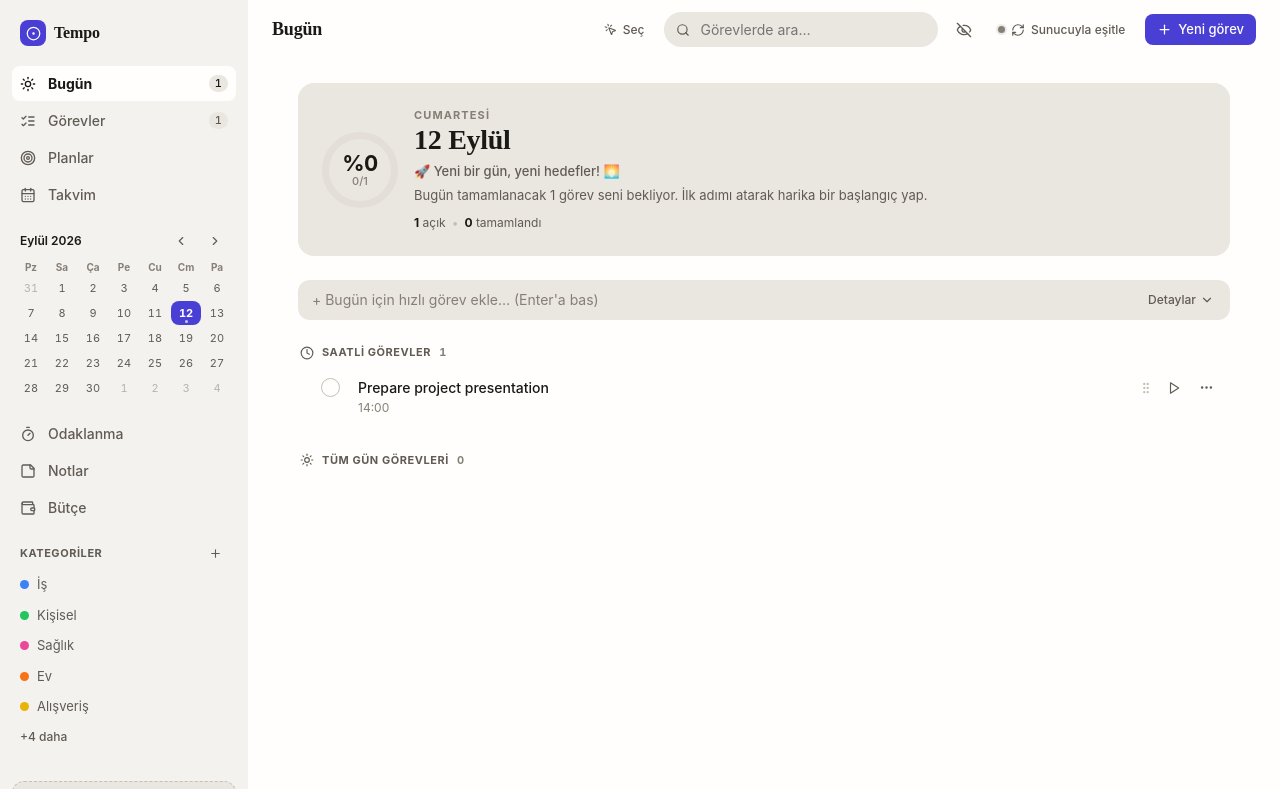
opening a task › renders the detail panel without crashing
Click the button "Prepare project presentation 14:00": click(453, 387) 352,377 -> 1123,418
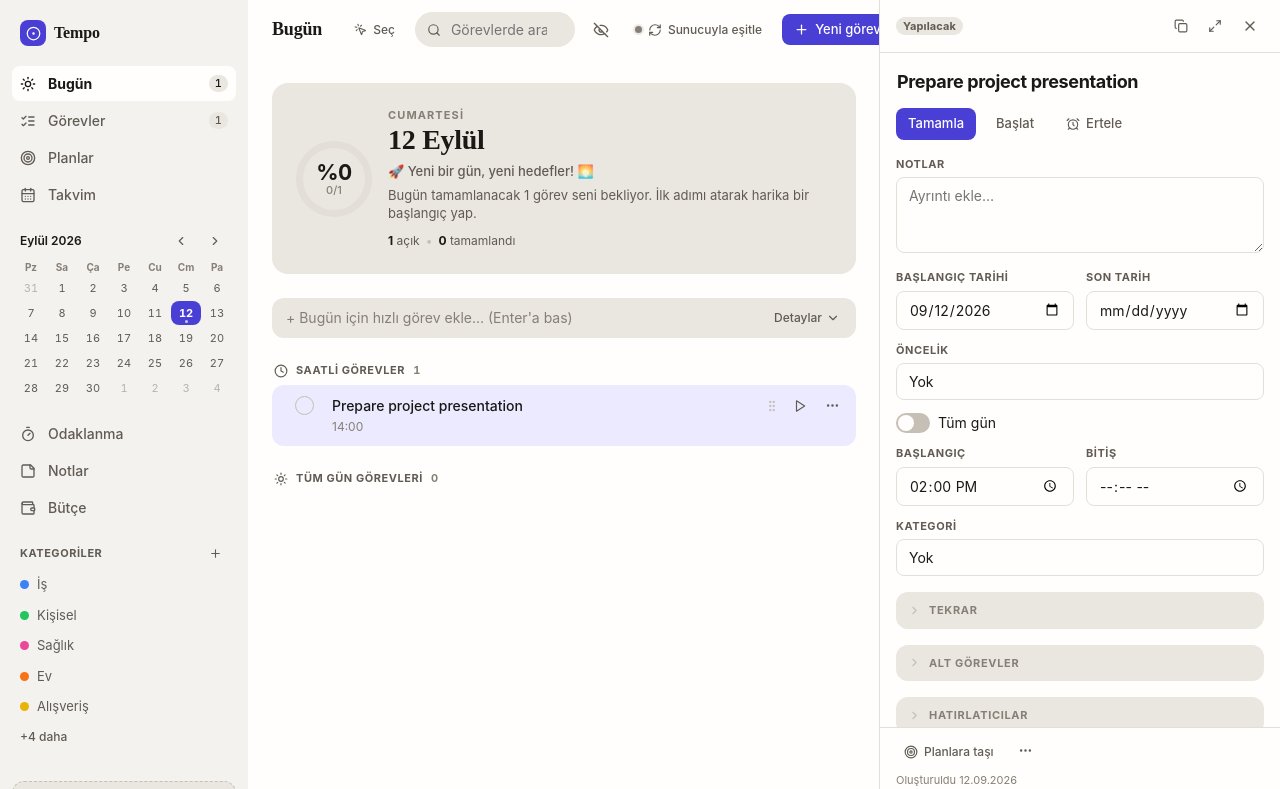
Result: the text "Hatırlatıcılar" is shown at 929,707 -> 1028,724
Result: the text "Alt görevler" is shown at 929,654 -> 1019,671
Result: the button "Tamamla" is shown at 896,108 -> 976,140
